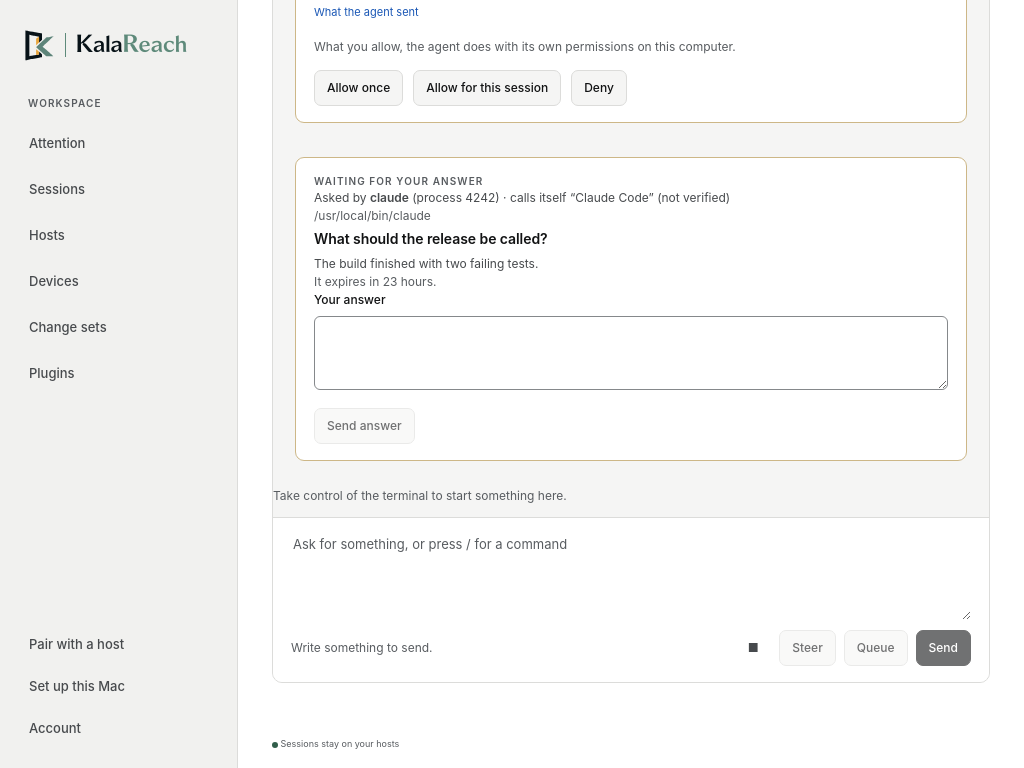
Test: a draft is kept on this device as it is typed (KR-REQ-13.13, 24.13) › keeps this window’s text beside another window’s version, and says so
The width and height of the screenshot is (1024, 768).
(page scrolled)
Type "begun here" into the text box with test id "composer-input".
click(631, 577); type("begun here")  # box [291, 534, 971, 620]
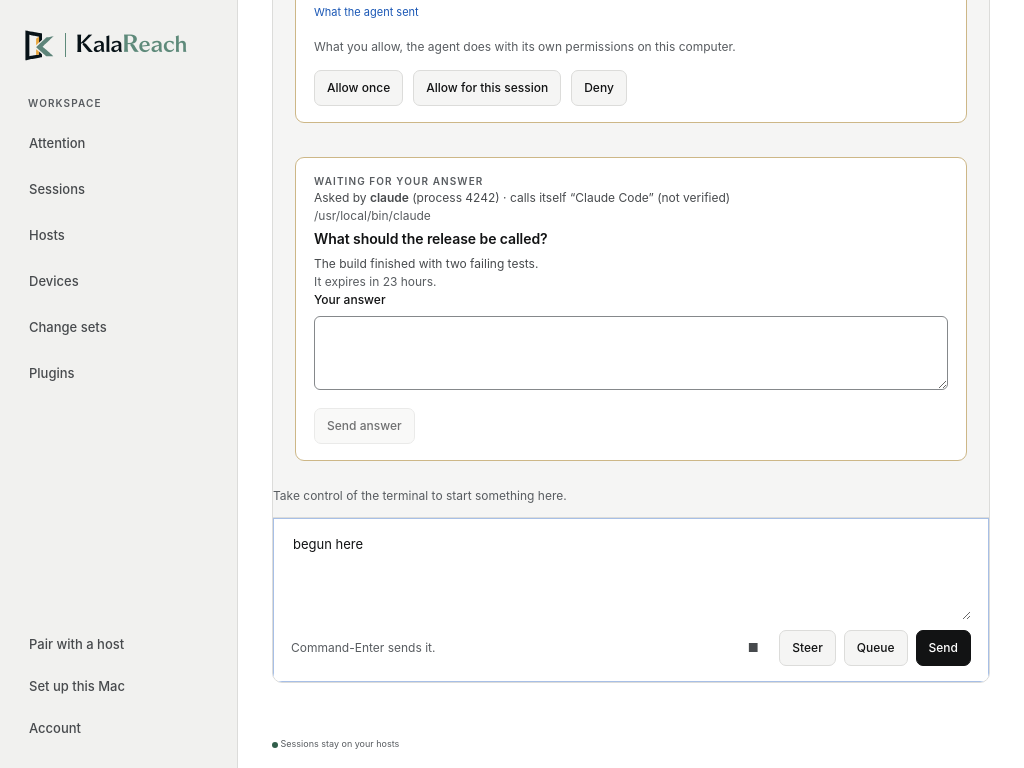
Type " and more" into the text box with test id "composer-input".
click(631, 577); type(" and more")  # box [291, 534, 971, 620]
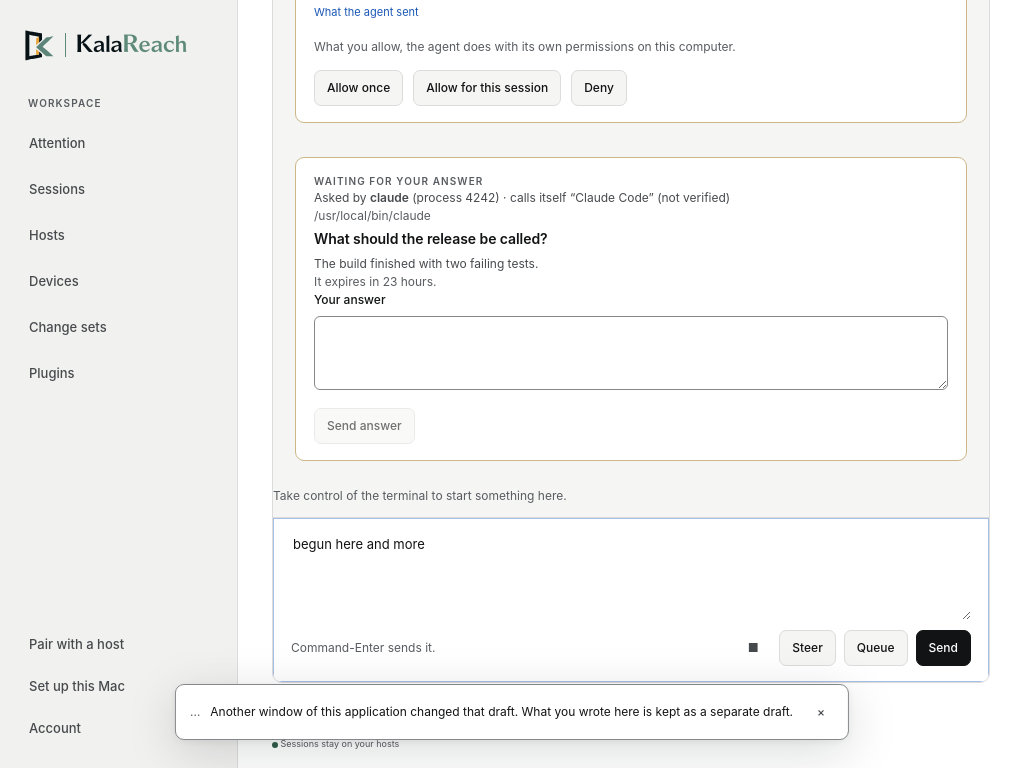
Now the text "Another window of this application changed that draft" is shown, box [210, 704, 793, 719]
Now the text box with test id "composer-input" holds "begun here and more", box [291, 534, 971, 620]
